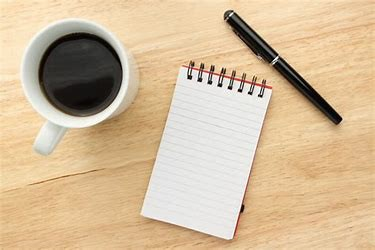pen: (218, 12, 341, 124)
